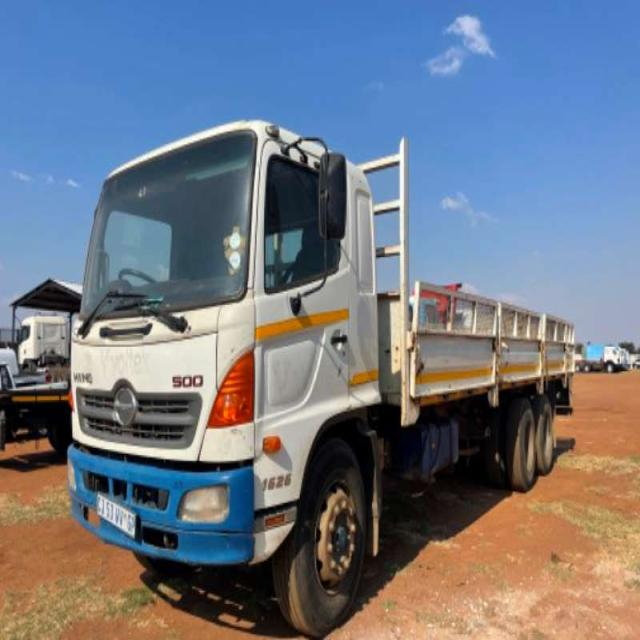Heavy Duty Truck: (66, 121, 576, 634)
